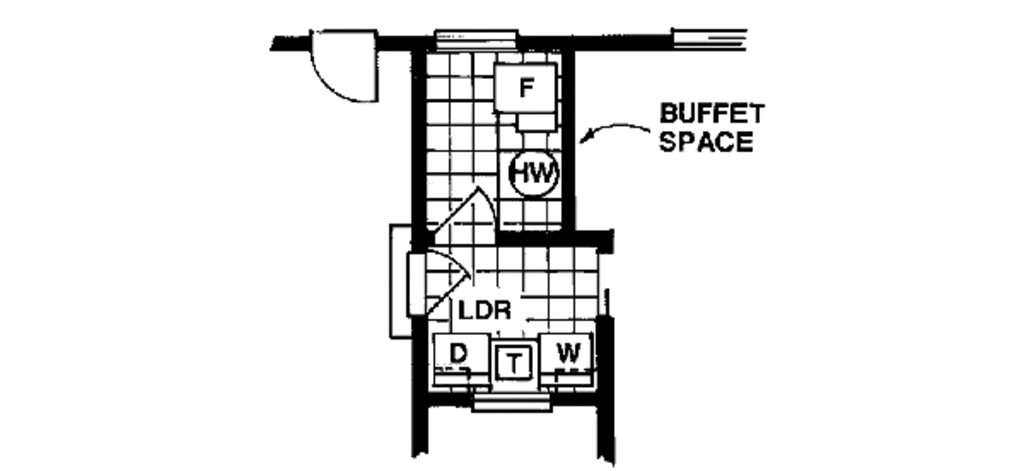door: (304, 28, 391, 112), (399, 247, 469, 314), (435, 181, 493, 241)
window: (436, 21, 516, 55), (478, 386, 558, 413)
